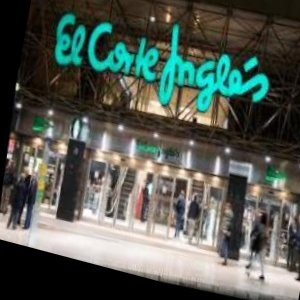corte_ingles: (263, 19, 298, 85)
